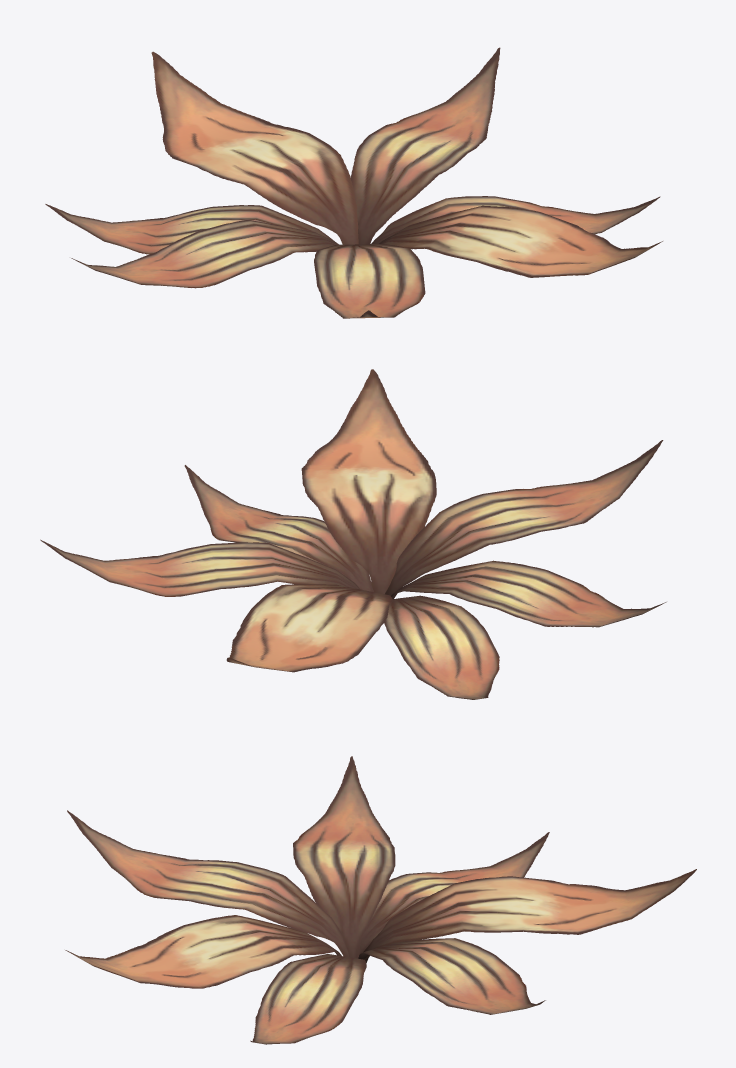
Rendered from bush3.fbx.
3 renders of one model, top to bottom at view 1: azimuth 30°, elevation 25°; view 2: azimuth 150°, elevation 25°; view 3: azimuth 270°, elevation 25°, orthographic. The views are drawn at different scales.
Parts seen in each view (by area): view 1: polySurface525; view 2: polySurface525; view 3: polySurface525.
Part boxes in pixels (x1,y1,x2,y2): polySurface525: (45,47,662,318); polySurface525: (40,369,666,699); polySurface525: (65,756,696,1044).
Size of the model in its own units: 1.35 by 0.2352 by 1.43.
